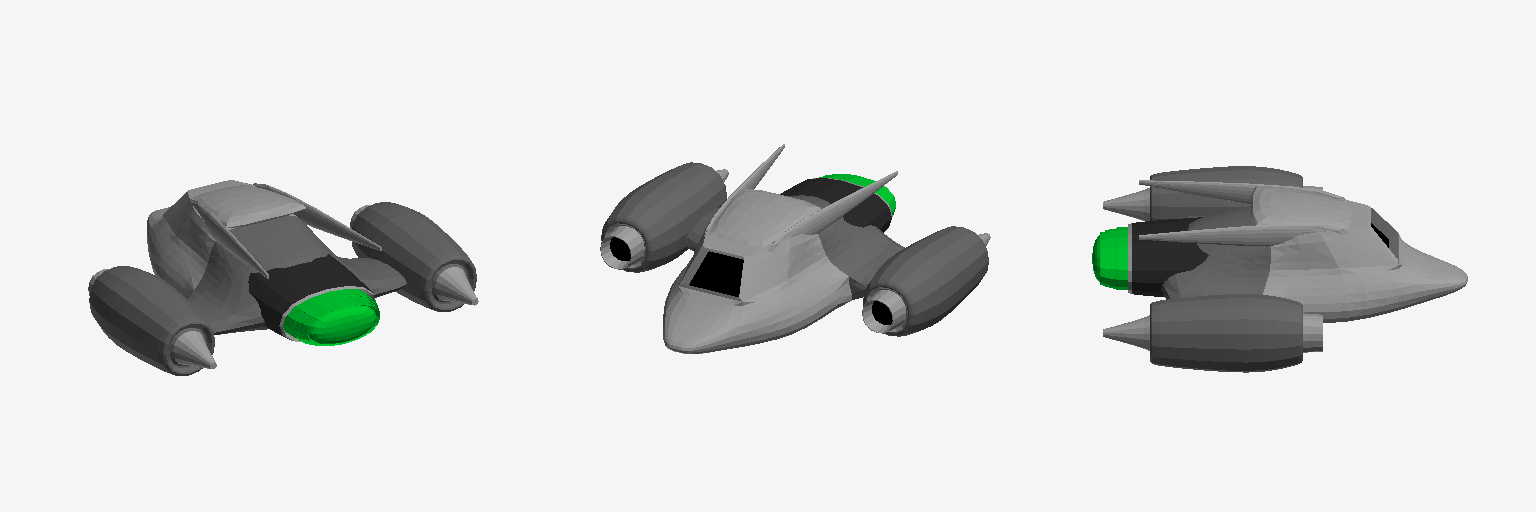
The model's file is spaceship.obj.
3 views of the same model, side by side, from view 1: azimuth 30°, elevation 25°; view 2: azimuth 150°, elevation 25°; view 3: azimuth 270°, elevation 25° (orthographic).
Parts seen in each view (by area): view 1: Cube; view 2: Cube; view 3: Cube.
Boxes of the visible parts, box(x1,y1,x2,y2) form: Cube: box(88, 180, 478, 375); Cube: box(600, 144, 990, 353); Cube: box(1092, 166, 1467, 372).
Bounding box in the file's own units: 8.42 × 2.65 × 8.33.